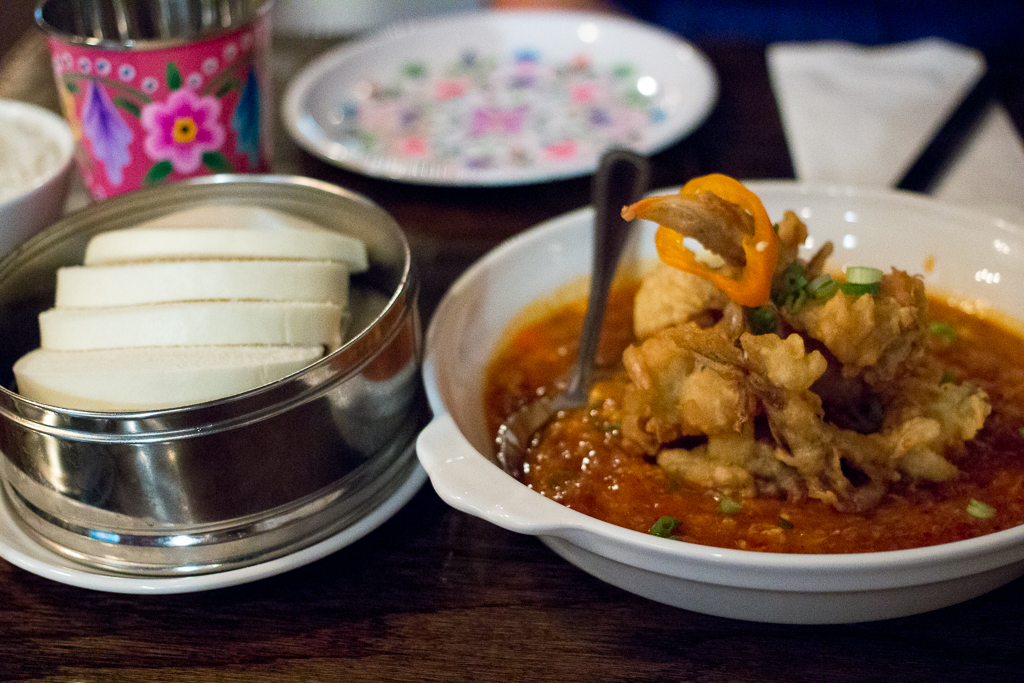plate: (264, 23, 714, 178)
